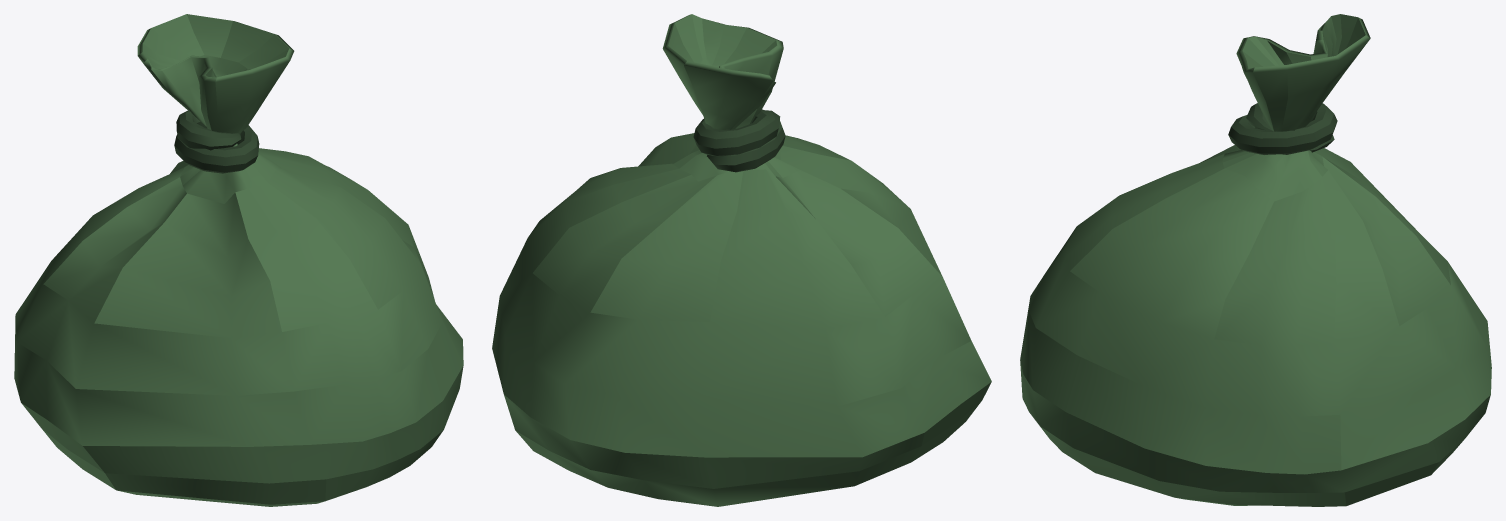
The model's file is trashnew.glb.
The picture shows the model from 3 angles, left to right: view 1: azimuth 30°, elevation 25°; view 2: azimuth 150°, elevation 25°; view 3: azimuth 270°, elevation 25°; orthographic projection. The views are drawn at different scales.
Parts seen in each view (by area): view 1: uploads_files_2560370_trash_bag; view 2: uploads_files_2560370_trash_bag; view 3: uploads_files_2560370_trash_bag.
Boxes of the visible parts, left/top/right/bottom form: uploads_files_2560370_trash_bag: left=14, top=14, right=463, bottom=506; uploads_files_2560370_trash_bag: left=492, top=14, right=991, bottom=506; uploads_files_2560370_trash_bag: left=1020, top=14, right=1491, bottom=506.
Size of the model in its own units: 1.78 by 1.62 by 1.73.
Materials: 1 (1 with a texture image).
